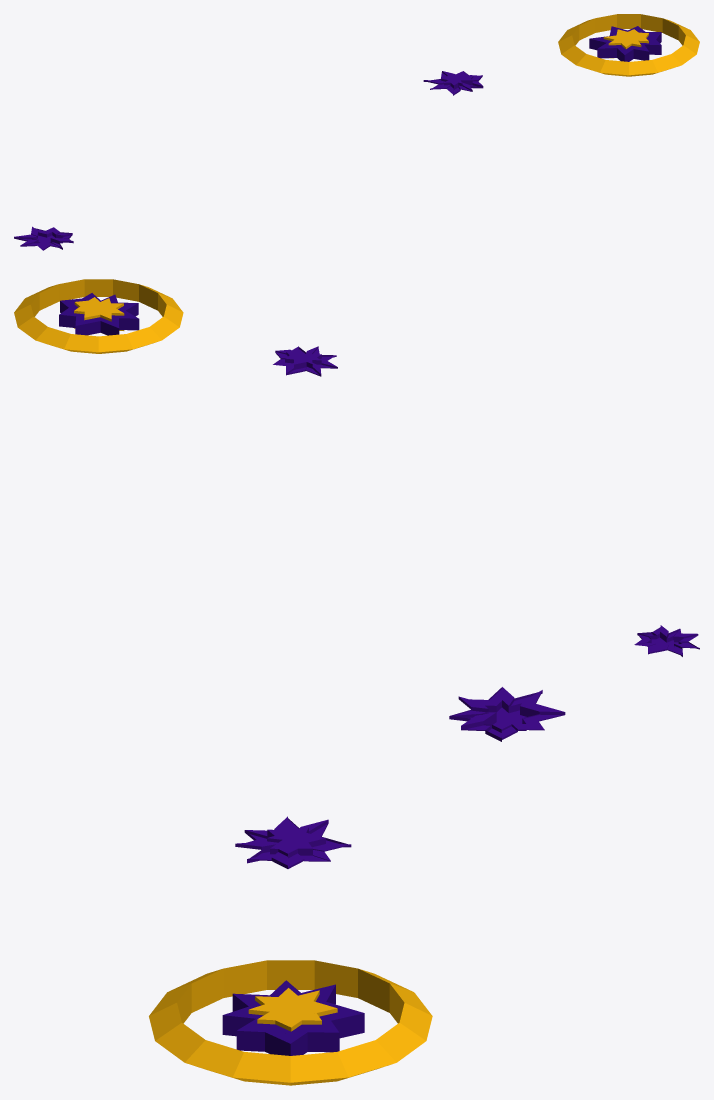
Rendered from Coin_Spacerunner.fbx.
3 views of the same model, one above another, from view 1: azimuth 30°, elevation 25°; view 2: azimuth 150°, elevation 25°; view 3: azimuth 270°, elevation 25° (orthographic). The views are drawn at different scales.
Parts seen in each view (by area): view 1: Torus, Cylinder.002, Cylinder.004; view 2: Torus, Cylinder.004, Cylinder.002; view 3: Torus, Cylinder.002, Cylinder.004, Cylinder.005, Cylinder.001, Cylinder.008, Cylinder.010, Cylinder.006, Cylinder.013.
Boxes of the visible parts, x1,y1,x2,y2 form: Torus: (558,14,699,76); Cylinder.002: (14,226,73,250); Cylinder.004: (423,71,483,95); Torus: (14,279,183,353); Cylinder.004: (273,346,337,376); Cylinder.002: (634,625,699,656); Torus: (149,960,432,1085); Cylinder.002: (449,687,565,741); Cylinder.004: (235,816,351,868); Cylinder.005: (294,992,364,1038); Cylinder.001: (236,1015,296,1051); Cylinder.008: (295,1021,339,1052); Cylinder.010: (265,1027,307,1055); Cylinder.006: (222,1003,261,1036); Cylinder.013: (288,994,337,1017).
Size of what is drawn, in the model's own units: 1210 by 215 by 353.
